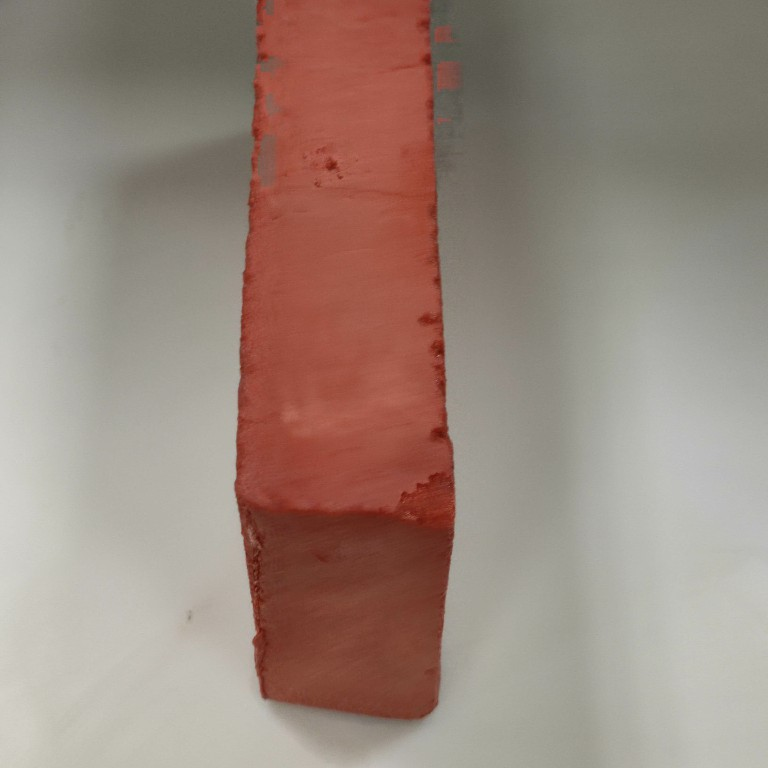brick: (230, 1, 460, 726)
